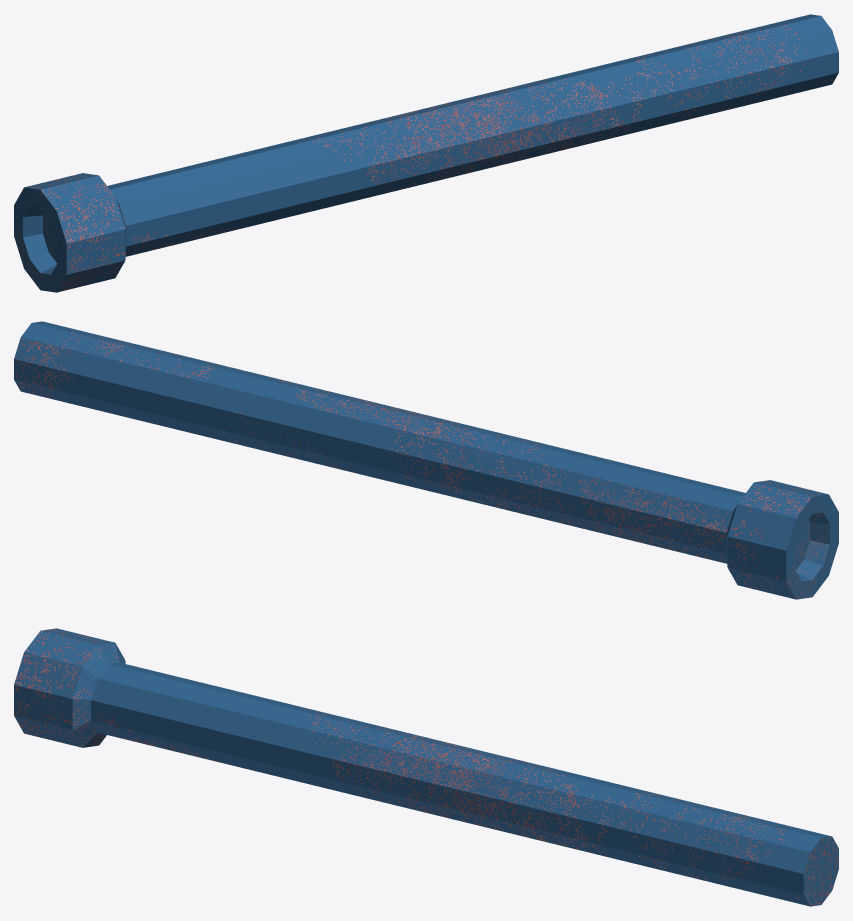
The model's file is pipe1.fbx.
3 views of the same model, one above another, from view 1: azimuth 30°, elevation 25°; view 2: azimuth 150°, elevation 25°; view 3: azimuth 330°, elevation 25° (orthographic).
Parts seen in each view (by area): view 1: pCylinder1; view 2: pCylinder1; view 3: pCylinder1.
Boxes of the visible parts, x1,y1,x2,y2 form: pCylinder1: (14,14,838,292); pCylinder1: (14,321,838,599); pCylinder1: (14,628,838,906).
Bounding box in the file's own units: 13.27 × 1.63 × 1.55.
